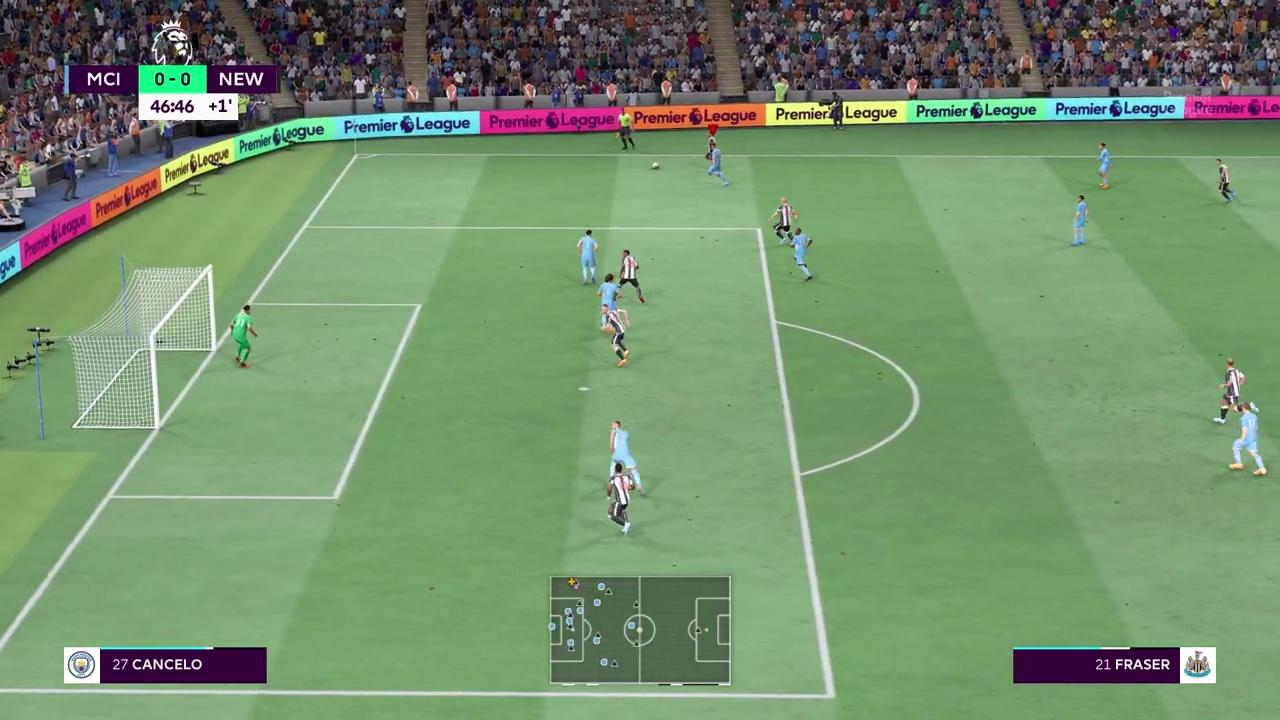scoreboard: (65, 67, 274, 95)
timestamp: (141, 97, 236, 120)
